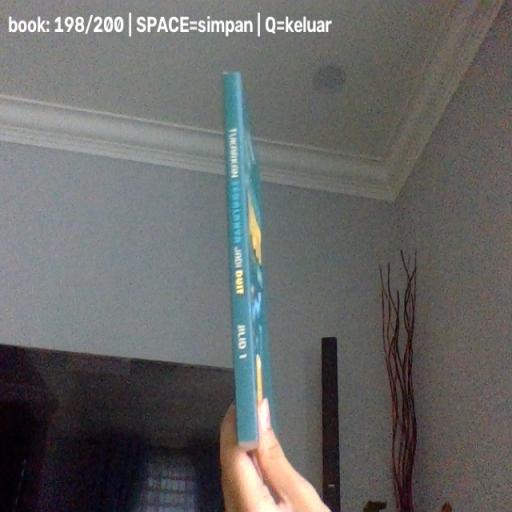Book: (221, 70, 272, 454)
